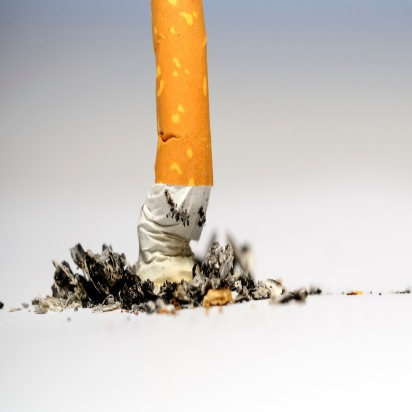cigarette: (132, 1, 219, 312)
